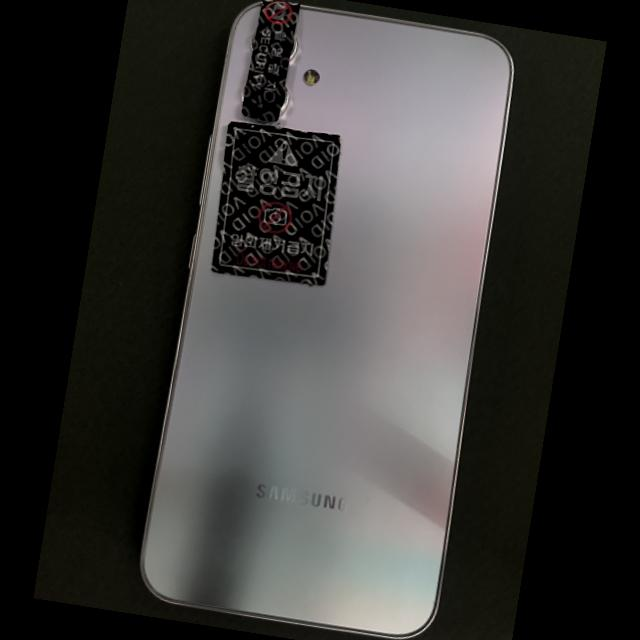phone: (140, 0, 515, 640)
sticker: (212, 122, 343, 287), (242, 0, 299, 123)
